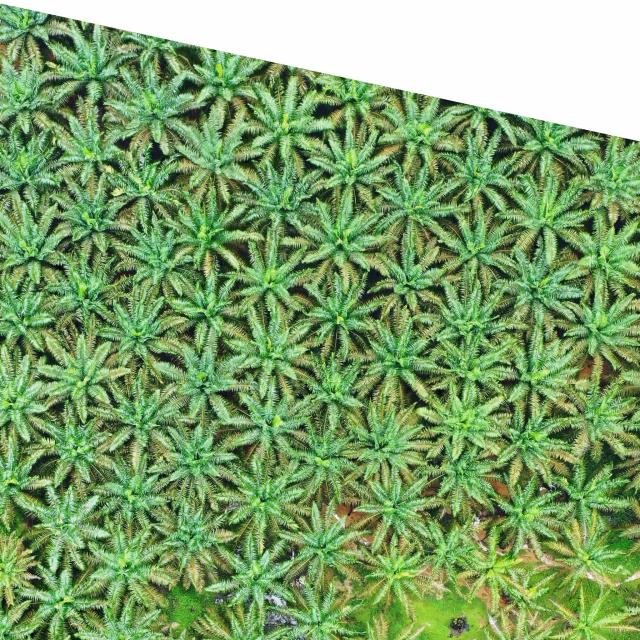Tree: (83, 366, 193, 472), (214, 456, 314, 560), (496, 234, 587, 342), (493, 173, 599, 263), (85, 517, 184, 612), (102, 62, 198, 158), (160, 182, 258, 276), (548, 284, 640, 384), (36, 331, 134, 424), (11, 554, 116, 640), (288, 266, 383, 360), (271, 499, 370, 589), (153, 496, 242, 596), (225, 373, 317, 469), (435, 275, 531, 367), (148, 345, 257, 426), (371, 163, 466, 255), (497, 319, 581, 422), (20, 480, 114, 572), (304, 125, 398, 215), (220, 236, 316, 324), (346, 466, 444, 552), (346, 318, 440, 407), (368, 235, 457, 328), (148, 418, 238, 509), (226, 306, 313, 400), (555, 207, 640, 303), (298, 189, 399, 268), (105, 138, 188, 232), (493, 403, 585, 487), (40, 401, 121, 496), (52, 172, 140, 258), (556, 372, 640, 462), (248, 73, 336, 157), (233, 156, 328, 232), (335, 402, 426, 481), (95, 293, 189, 369), (439, 122, 518, 212), (444, 206, 522, 297), (545, 512, 629, 596), (203, 534, 297, 609), (429, 331, 519, 409), (492, 470, 568, 562), (454, 524, 529, 617), (547, 459, 634, 539), (113, 209, 199, 289), (410, 380, 492, 462), (94, 449, 174, 533), (167, 270, 243, 356), (45, 258, 134, 329), (285, 428, 364, 507), (0, 198, 72, 284), (175, 119, 263, 188), (270, 577, 364, 640), (296, 350, 366, 431), (49, 114, 129, 182), (436, 442, 504, 515), (370, 531, 432, 607), (0, 281, 57, 355), (422, 517, 480, 583)
